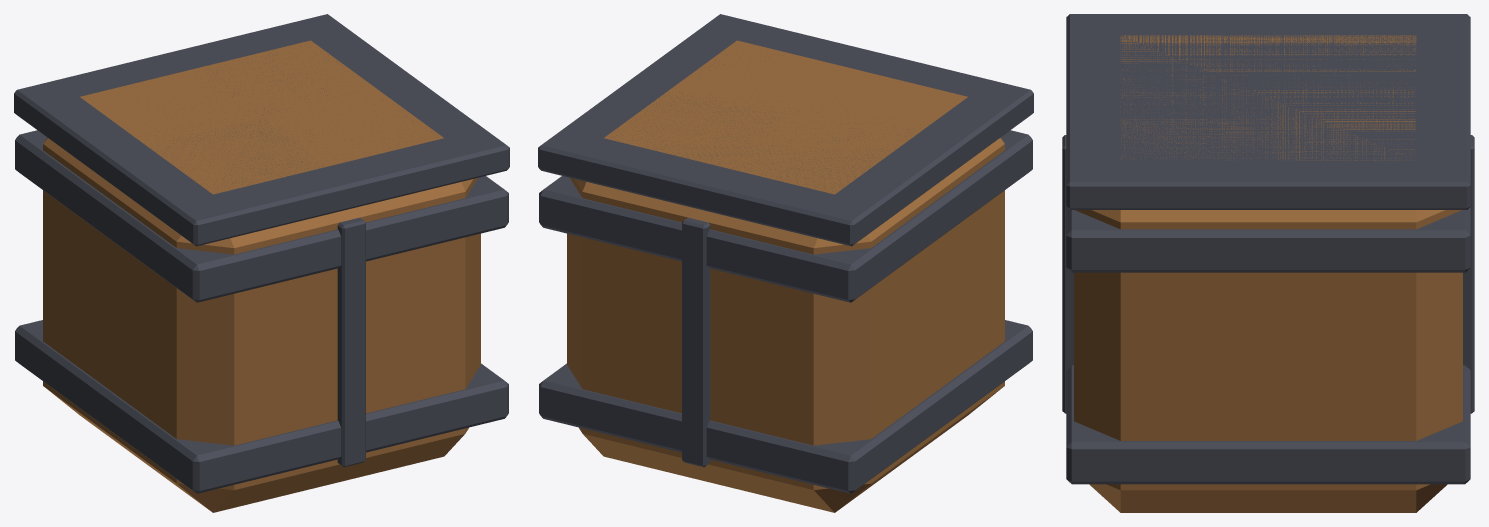
The model's file is Prop_PracticeCrate.glb.
3 views of the same model, side by side, from view 1: azimuth 30°, elevation 25°; view 2: azimuth 150°, elevation 25°; view 3: azimuth 270°, elevation 25° (orthographic). The views are drawn at different scales.
Visible parts, largest first — view 1: Prop_PracticeCrate; view 2: Prop_PracticeCrate; view 3: Prop_PracticeCrate.
Boxes of the visible parts, left/top/right/bottom form: Prop_PracticeCrate: left=14, top=14, right=509, bottom=512; Prop_PracticeCrate: left=538, top=14, right=1033, bottom=512; Prop_PracticeCrate: left=1062, top=14, right=1474, bottom=512.
Size of what is drawn, in the model's own units: 0.52 by 0.5 by 0.53.
